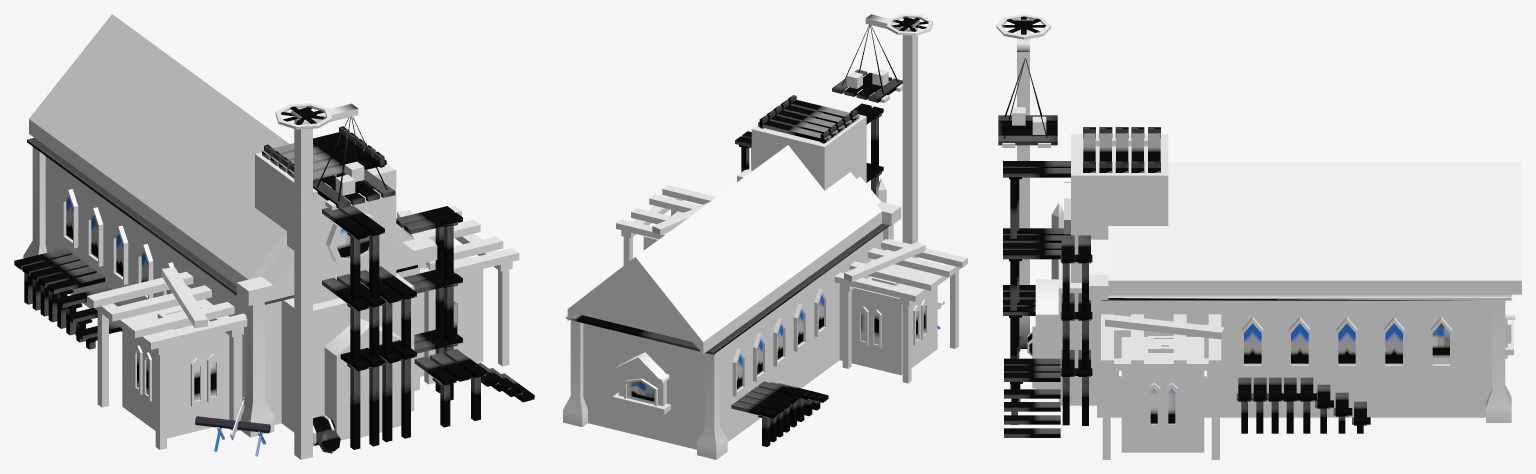
File: ChurchPhase02.fbx
3 views of the same model, side by side, from view 1: azimuth 30°, elevation 25°; view 2: azimuth 150°, elevation 25°; view 3: azimuth 270°, elevation 25° (orthographic). The views are drawn at different scales.
Visible parts, largest first — view 1: ChurchPhase02; view 2: ChurchPhase02; view 3: ChurchPhase02.
Part boxes in pixels (bbox=[...]): ChurchPhase02: bbox=[14, 14, 534, 459]; ChurchPhase02: bbox=[563, 14, 967, 459]; ChurchPhase02: bbox=[996, 14, 1521, 459].
Bounding box in the file's own units: 5.88 × 5.24 × 7.73.
